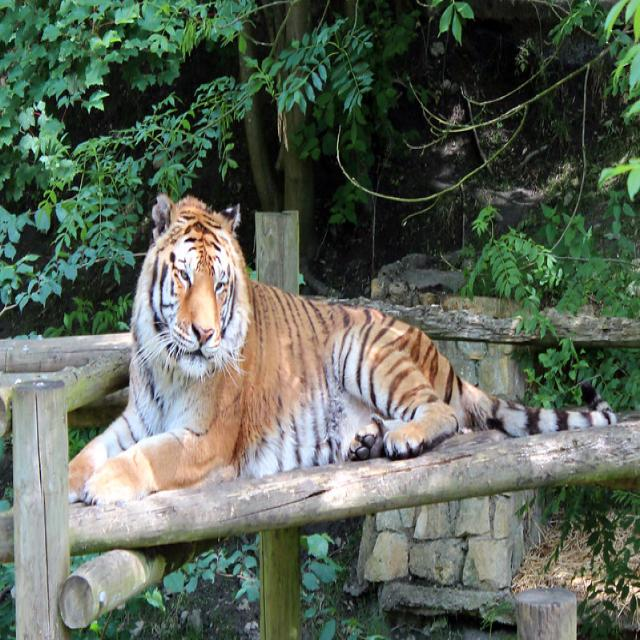Tiger: (77, 182, 493, 512)
